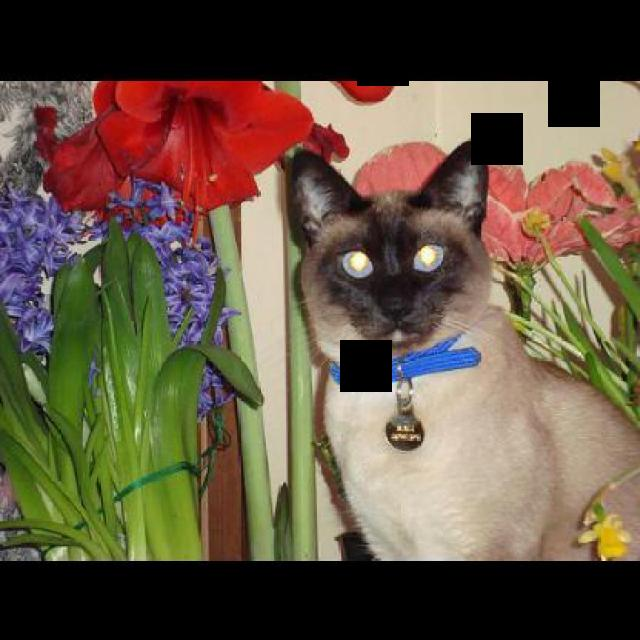unauthorized: (284, 132, 638, 560)
